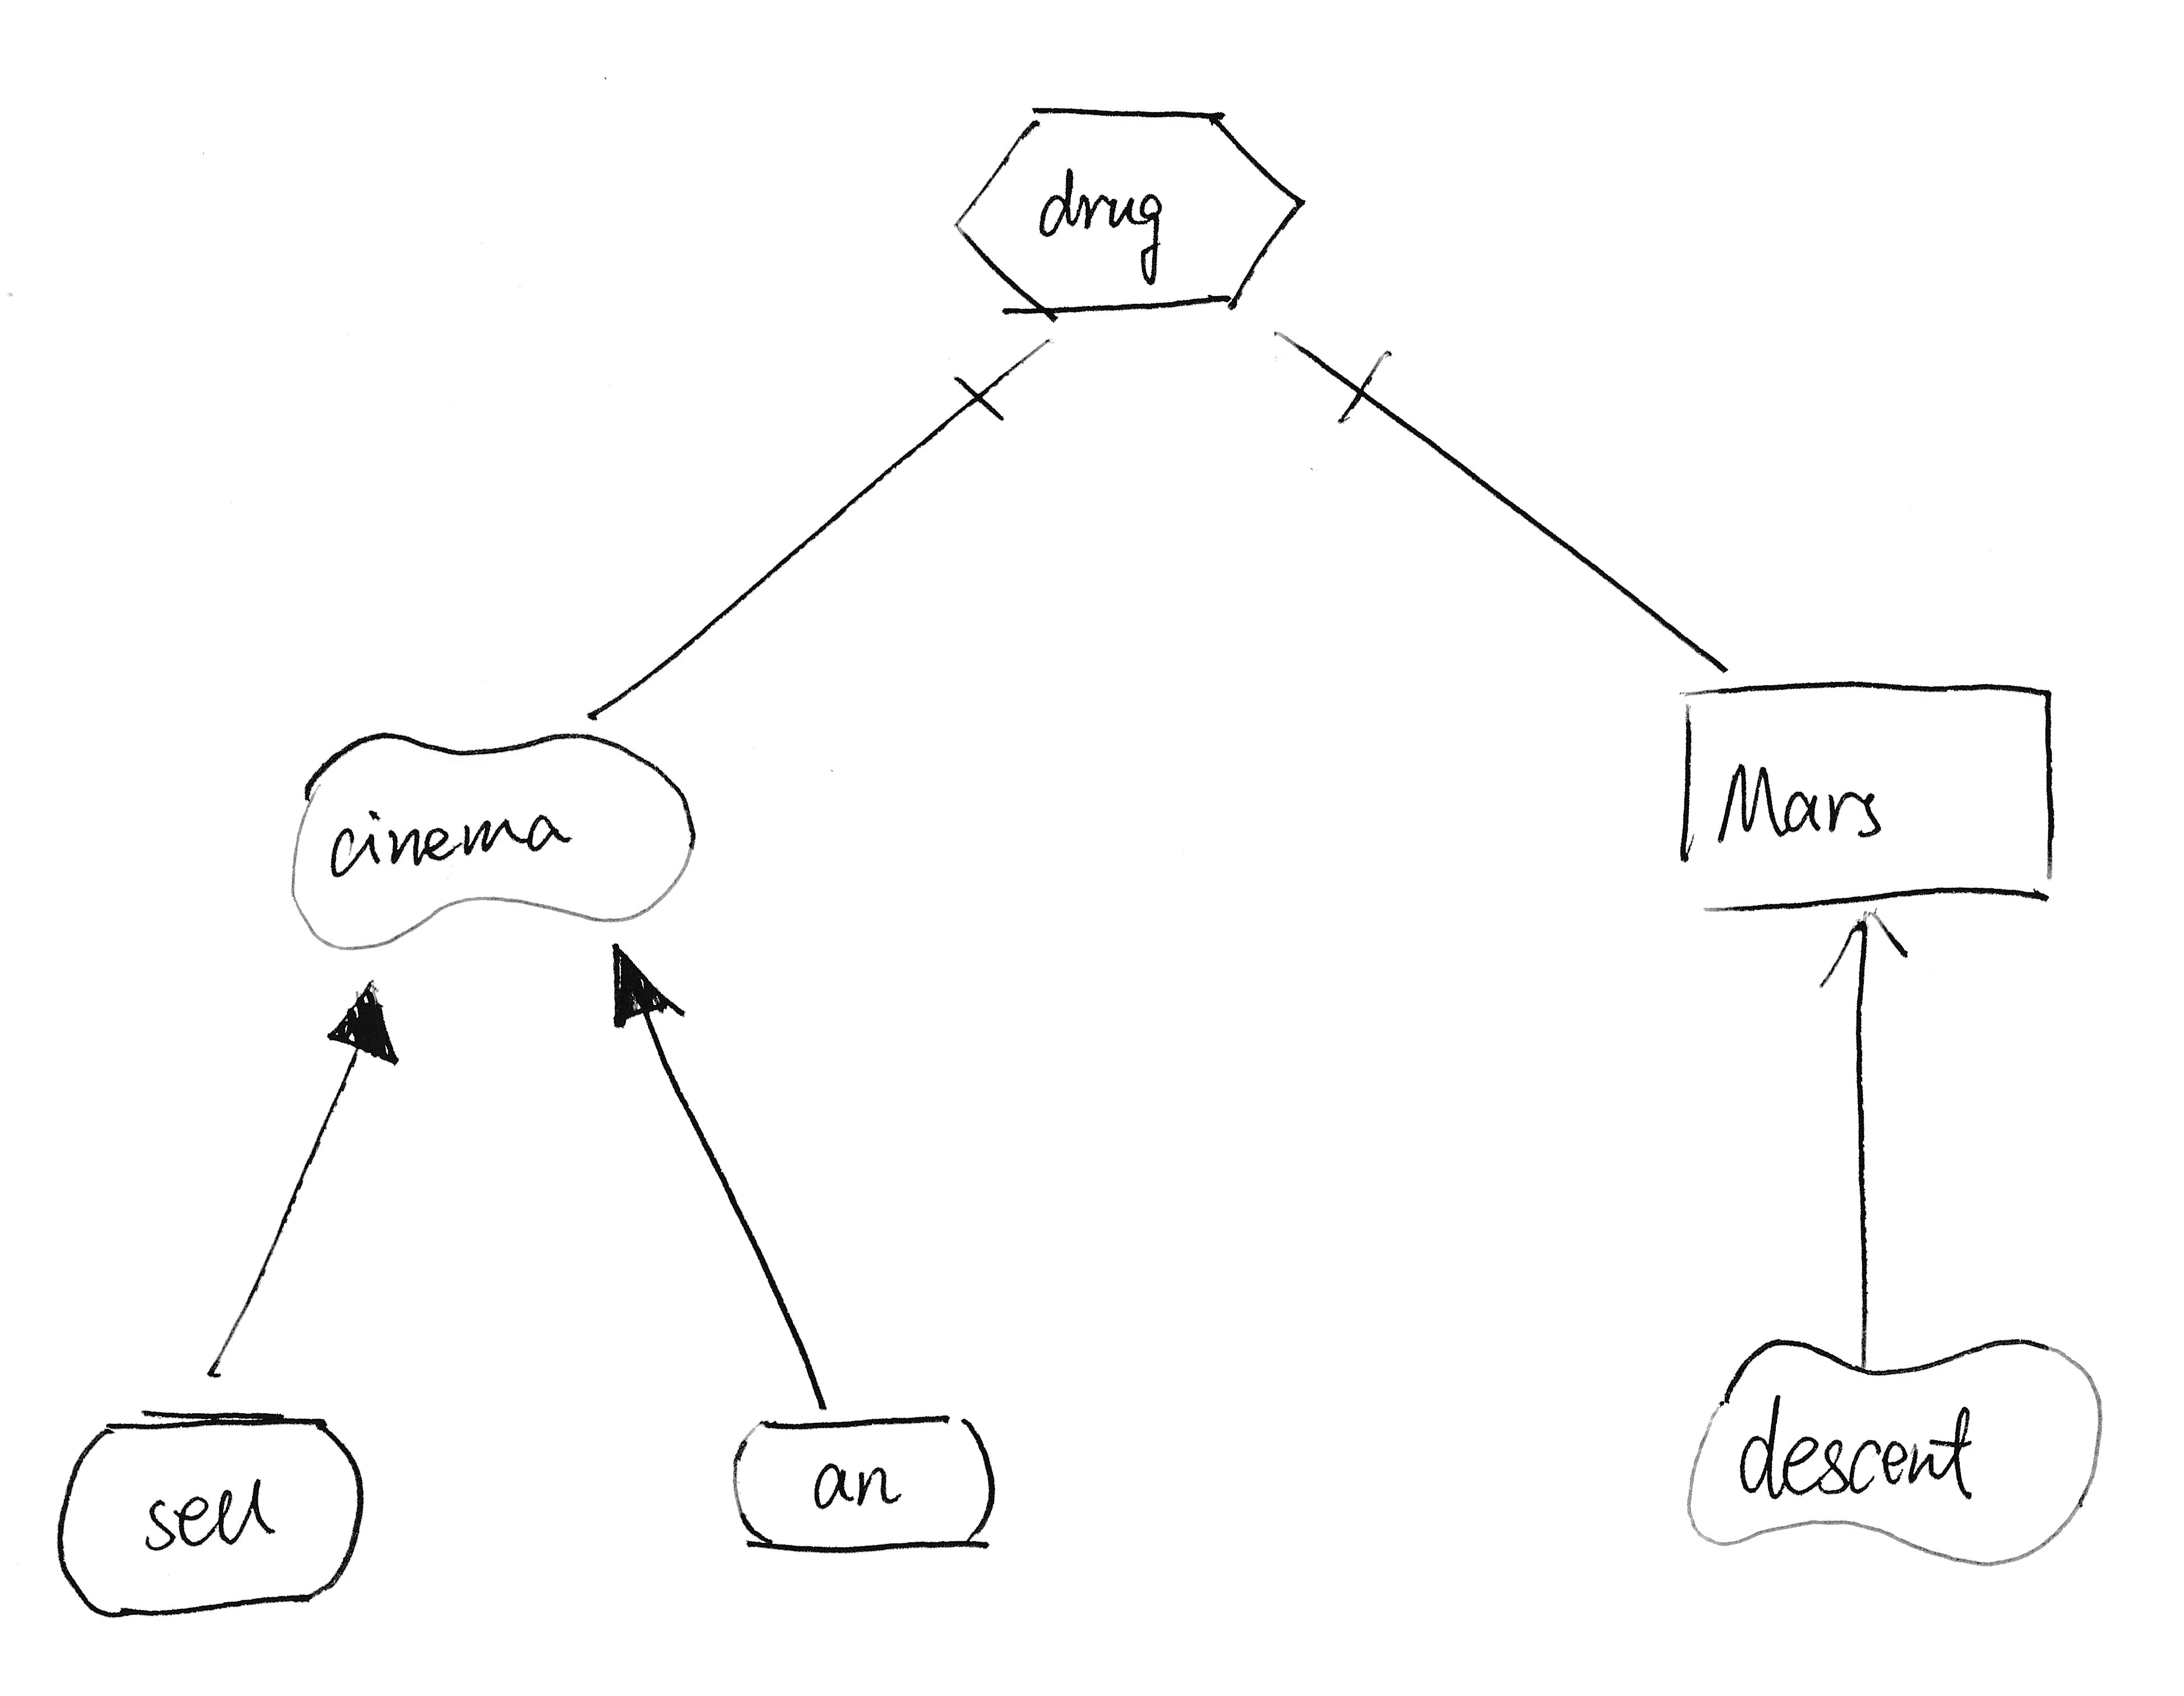and: (1298, 338, 1416, 443), (934, 349, 1035, 455)
arrow: (1812, 904, 1920, 1001)
goal: (48, 1391, 371, 1627), (716, 1405, 1012, 1561)
or: (583, 929, 702, 1042), (310, 966, 411, 1086)
quality: (278, 705, 704, 971), (1673, 1326, 2118, 1579)
resource: (1654, 673, 2072, 936)
task: (941, 82, 1319, 342)
